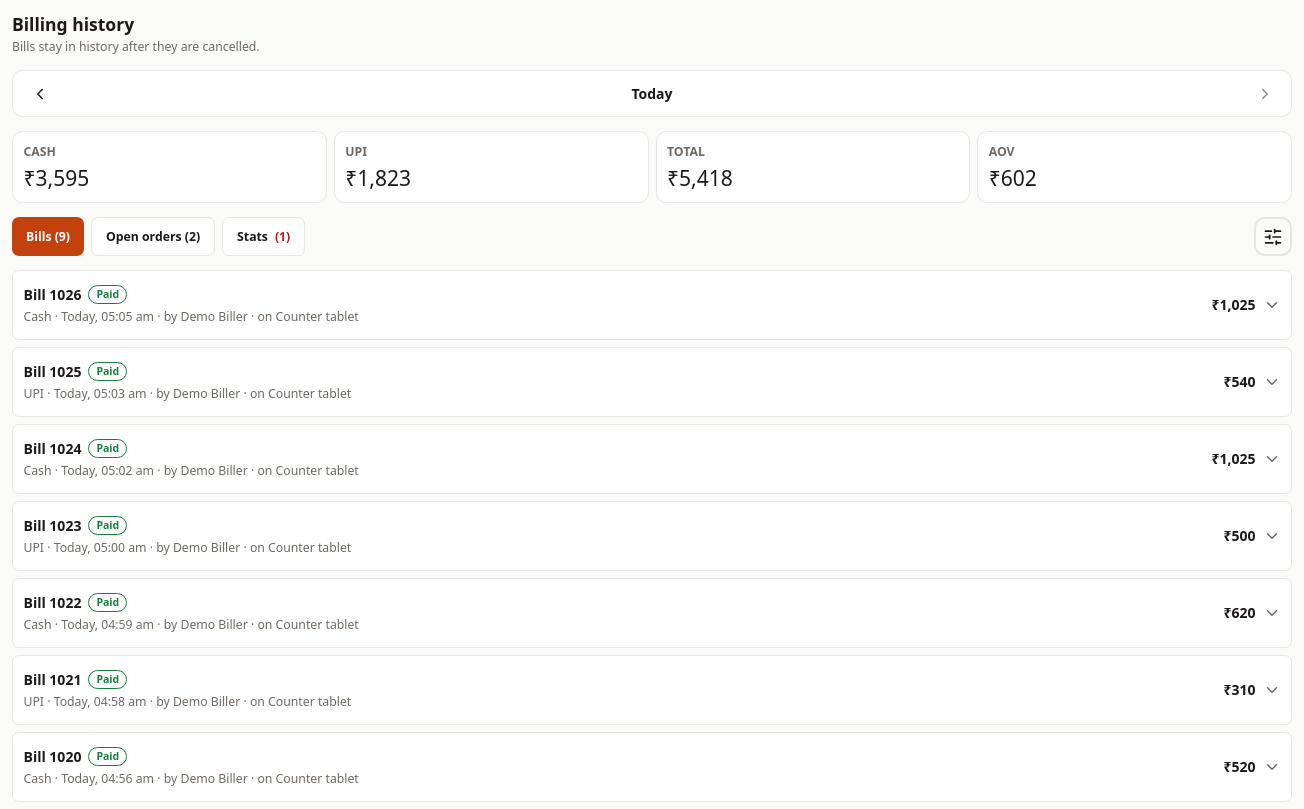
open orders follow the day › names the day’s unpaid total, and an earlier day lists none of today’s
This screenshot has width=1304, height=809.
Click the tab "Open orders (2)": point(153, 237) 91,217 -> 215,256
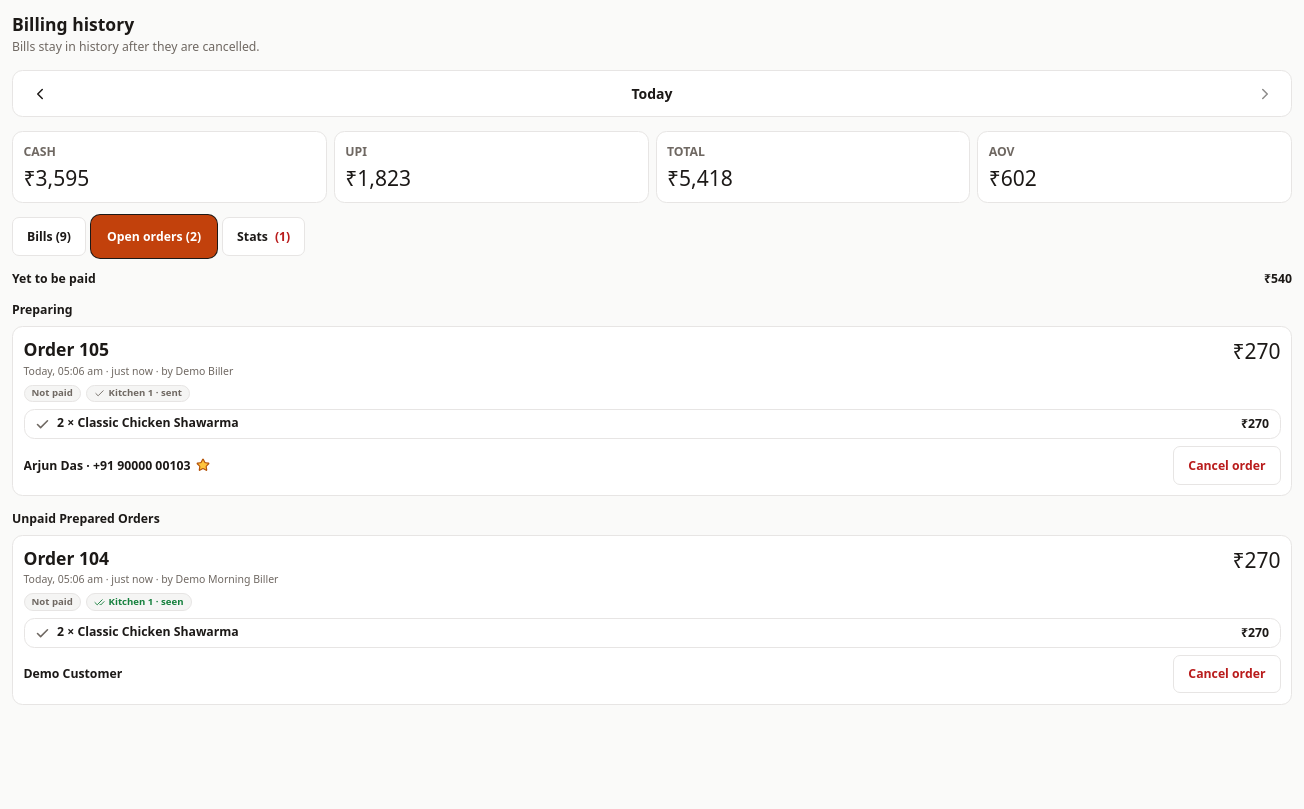
Click the button with test id "billing-history-step-back": point(40, 94) 16,74 -> 62,113
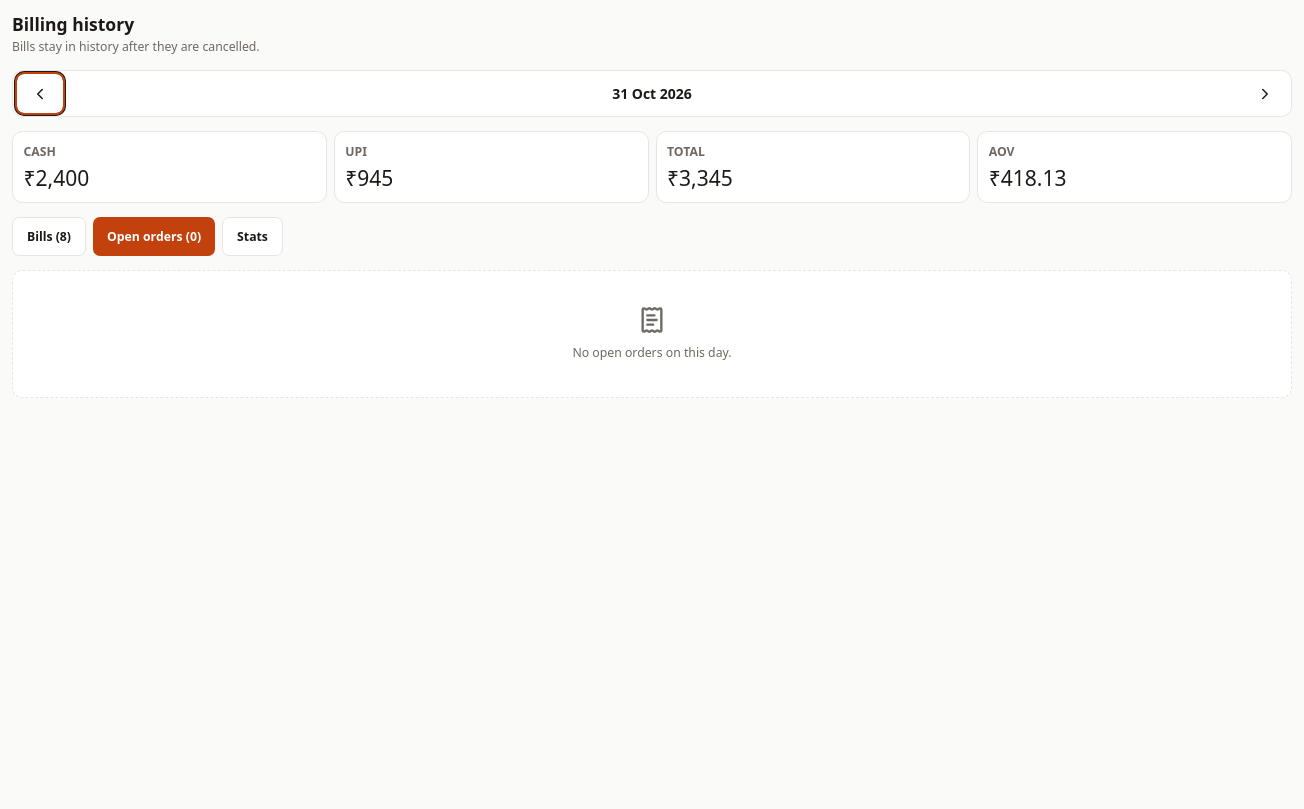
Now the text "No open orders on this day." is shown, box 572,344 -> 732,362
Now the tab "Open orders (0)" is shown, box 93,217 -> 215,256
